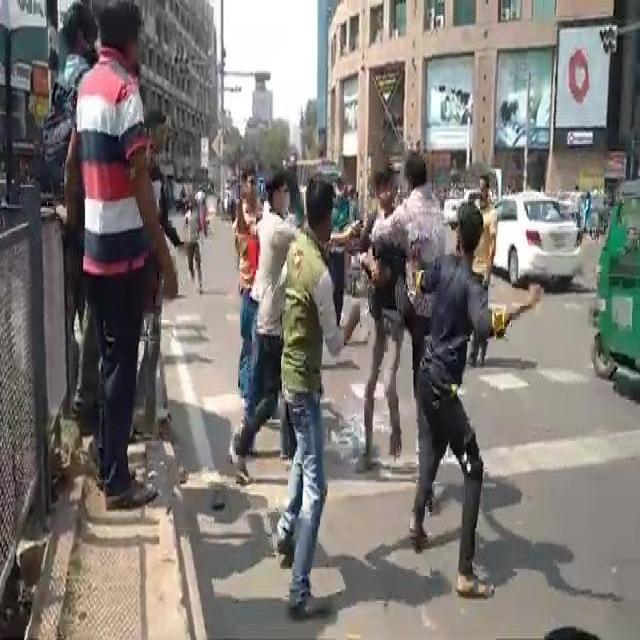fight: (218, 138, 540, 529), (62, 0, 166, 521)
